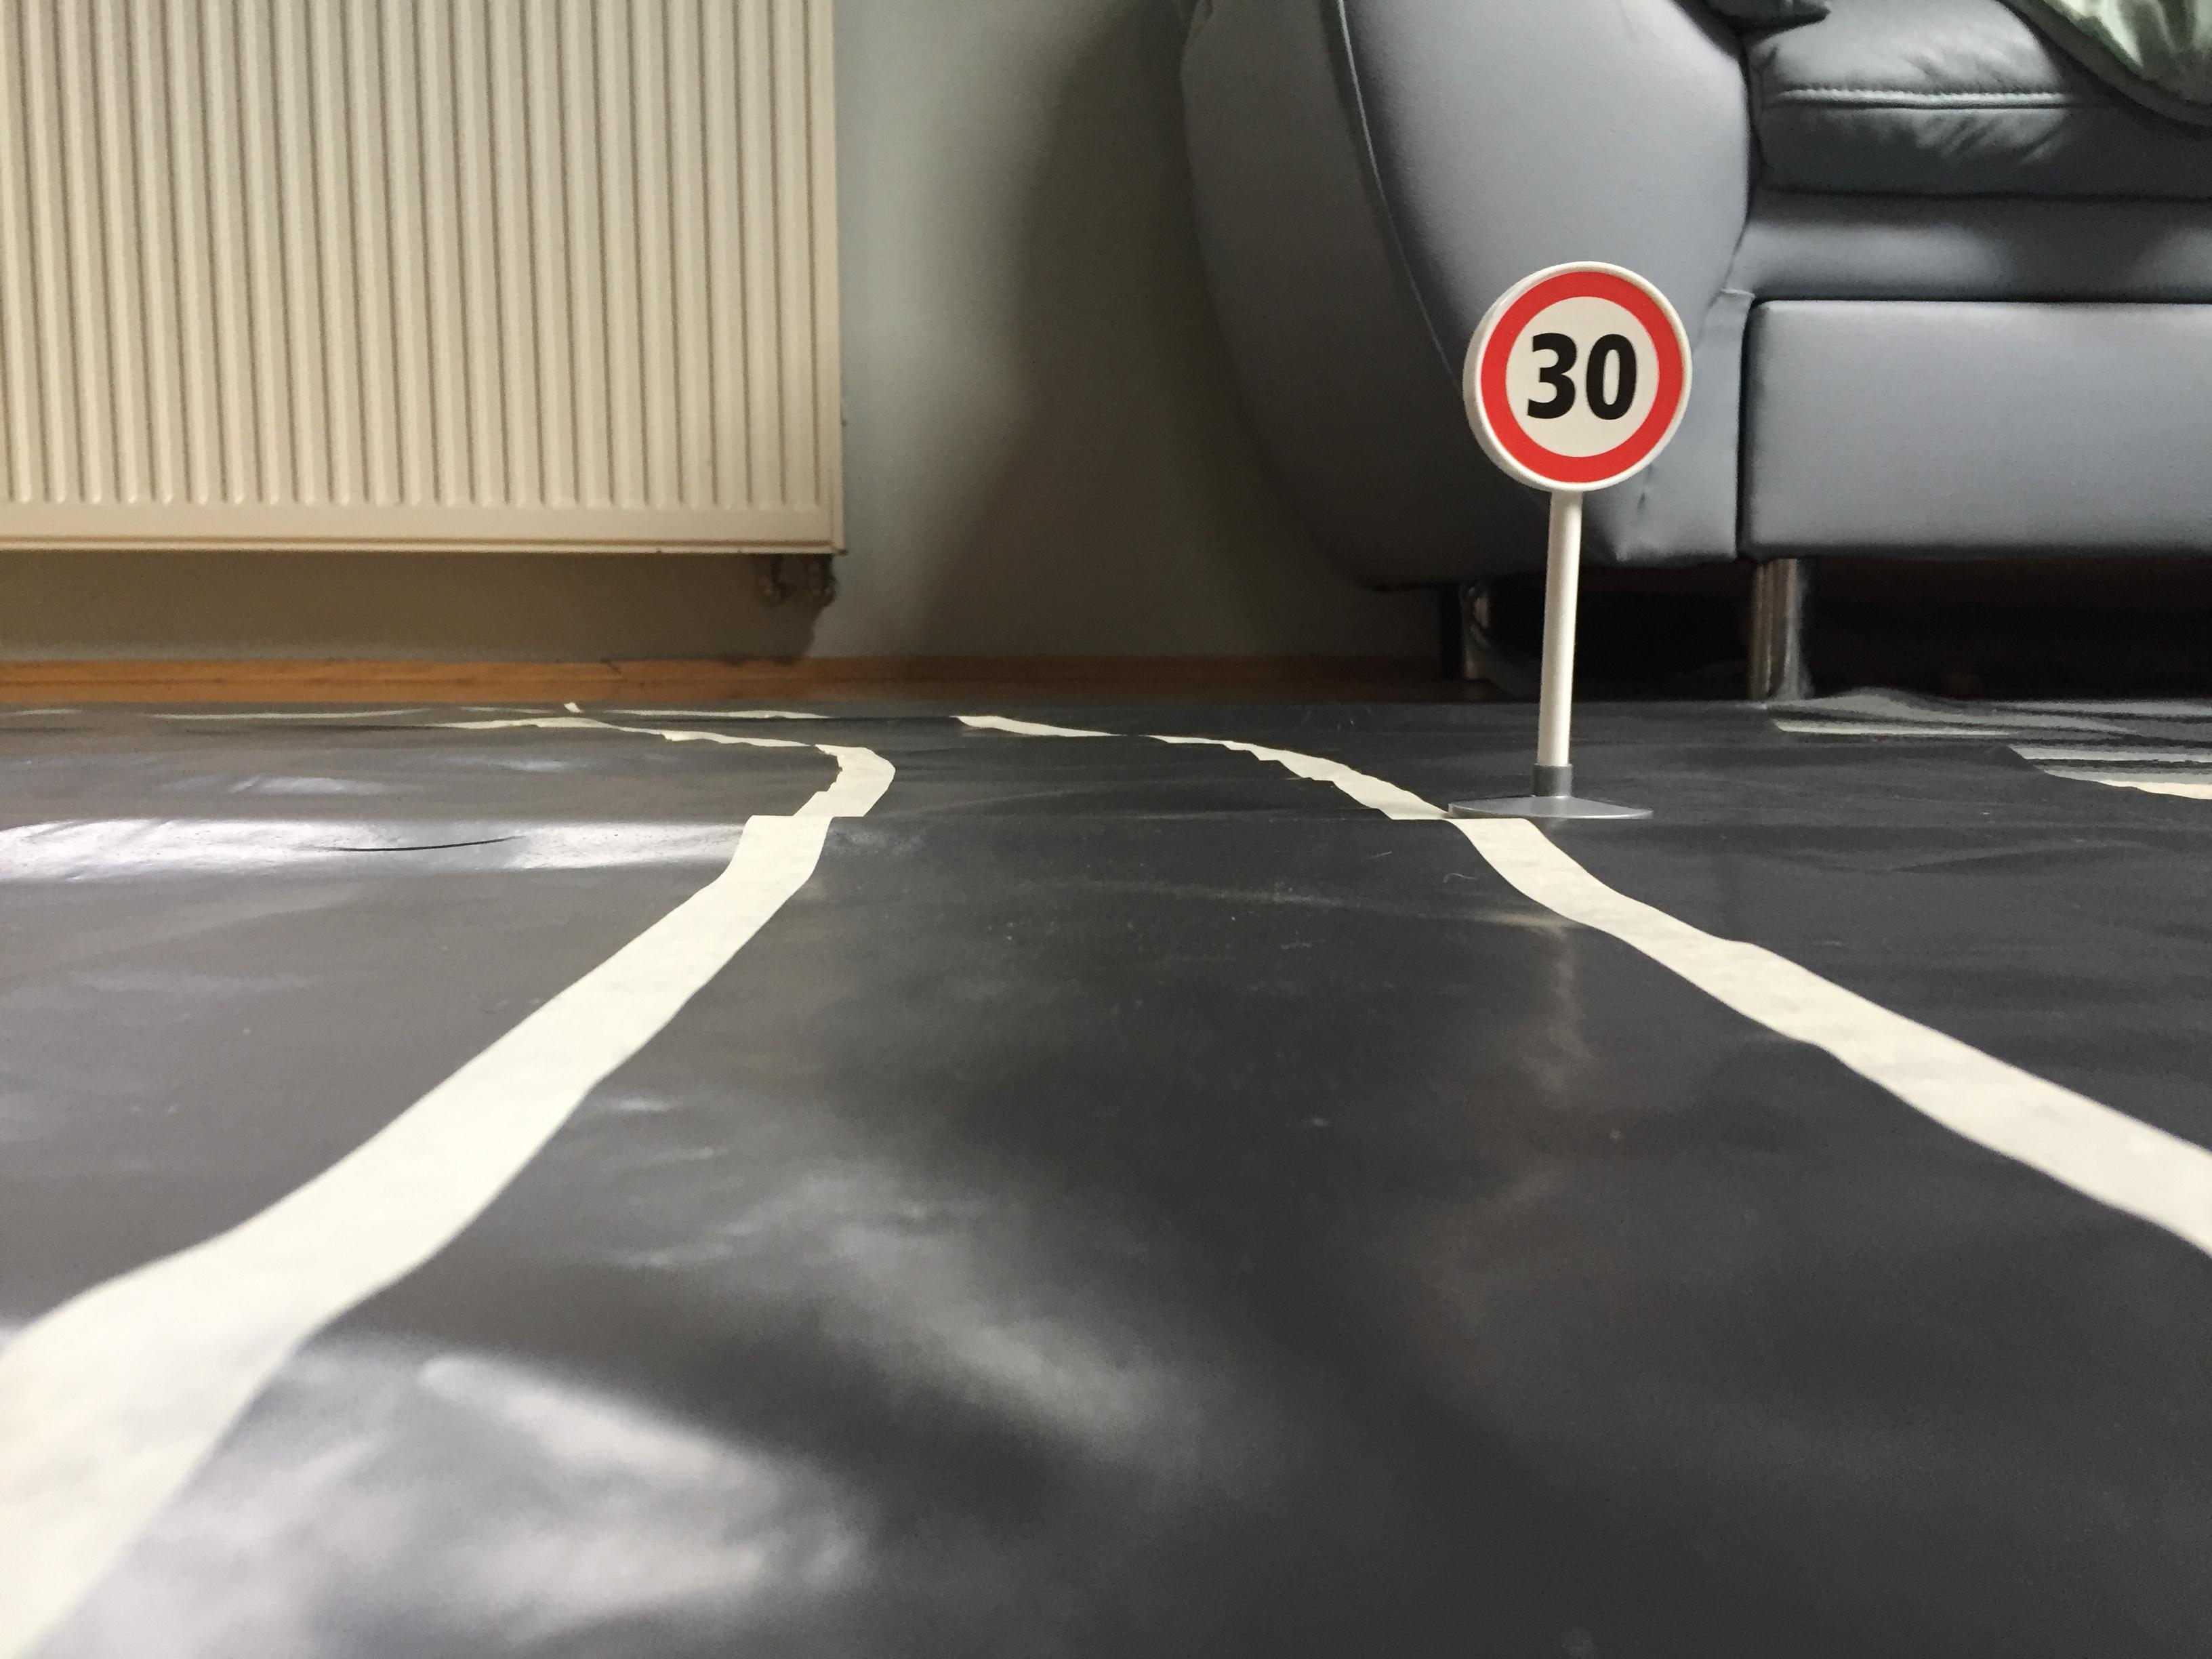speed: (1447, 251, 1698, 504)
